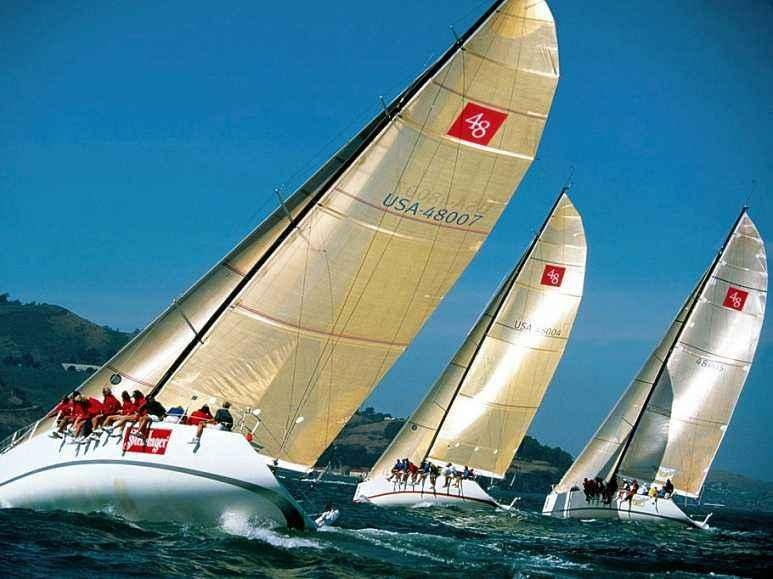fanchuan: (1, 1, 559, 526), (349, 185, 617, 513), (551, 211, 769, 543)
